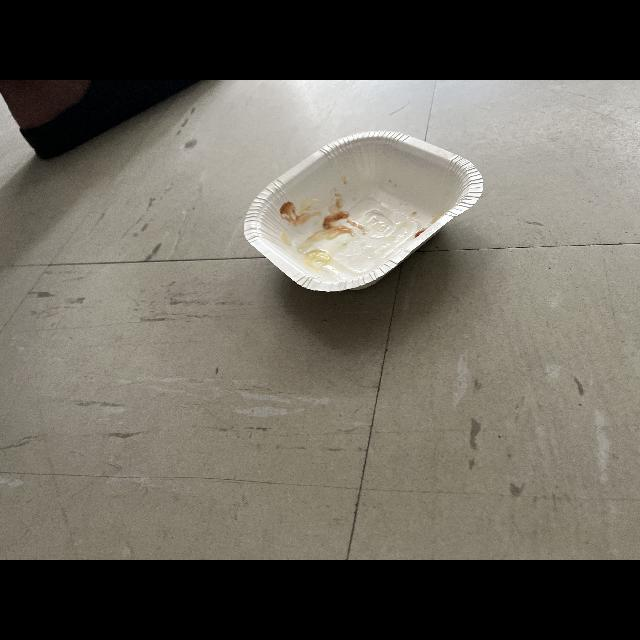cardboard_bowl: (235, 119, 490, 305)
